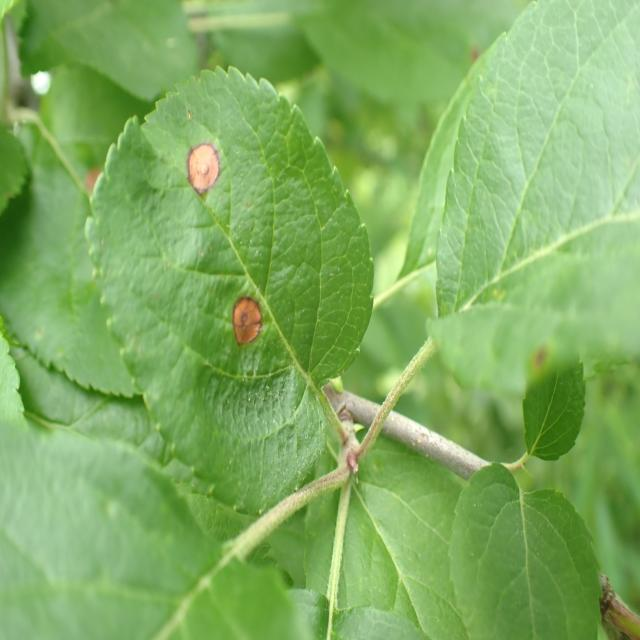Black Rot: (222, 262, 268, 368), (184, 123, 229, 229)
